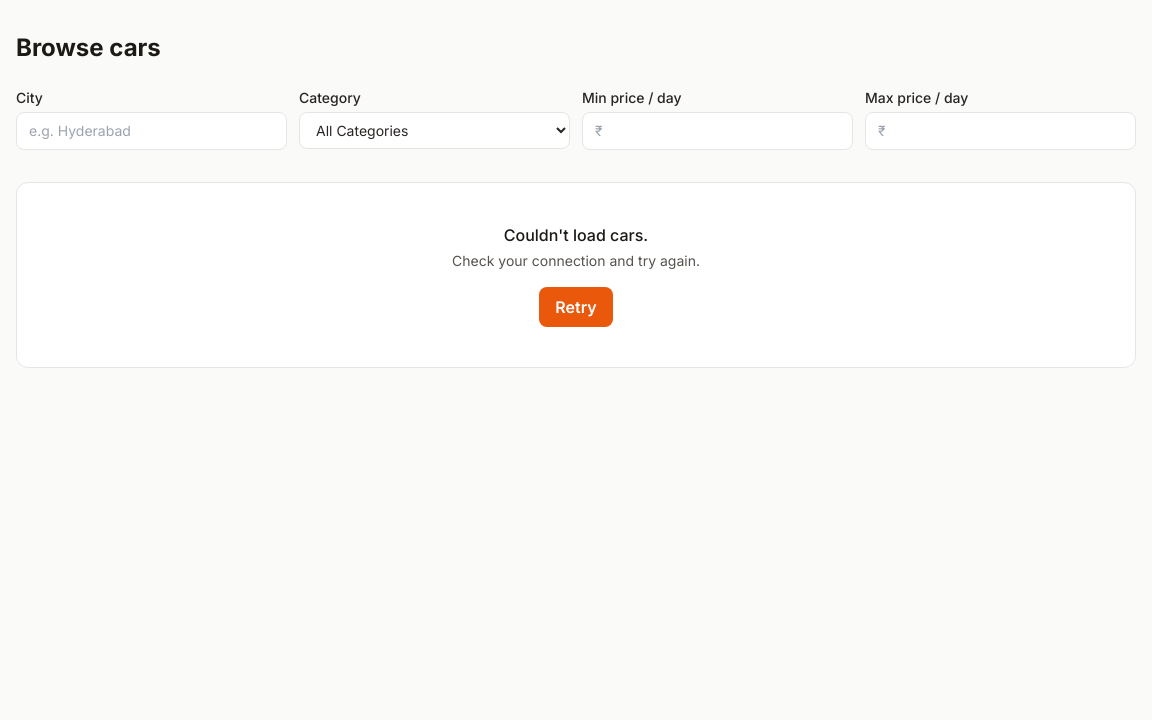
Test: BrowseCars › shows an error with a retry that loads the cars
What coordinates should you click on to do the following:
click the button "Retry"
I would click on:
 (576, 307)
Its box is x1=539 y1=287 x2=613 y2=327.
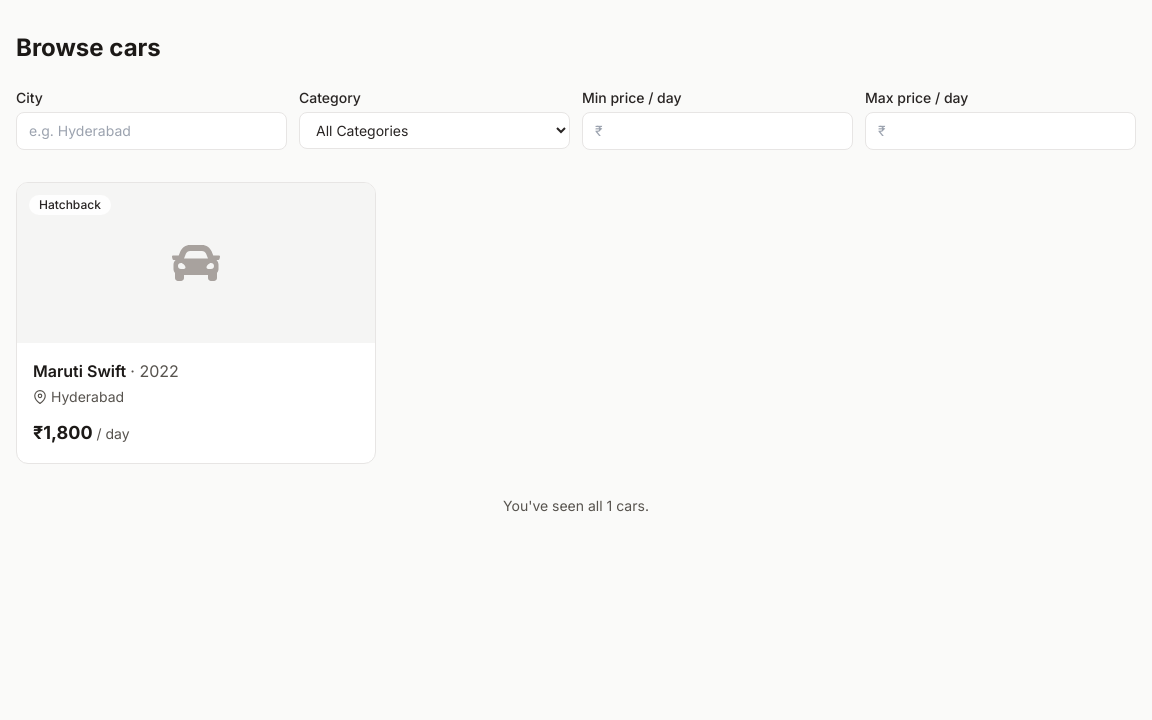
Now the heading "Maruti Swift · 2022" is shown, box x1=33 y1=361 x2=179 y2=381
